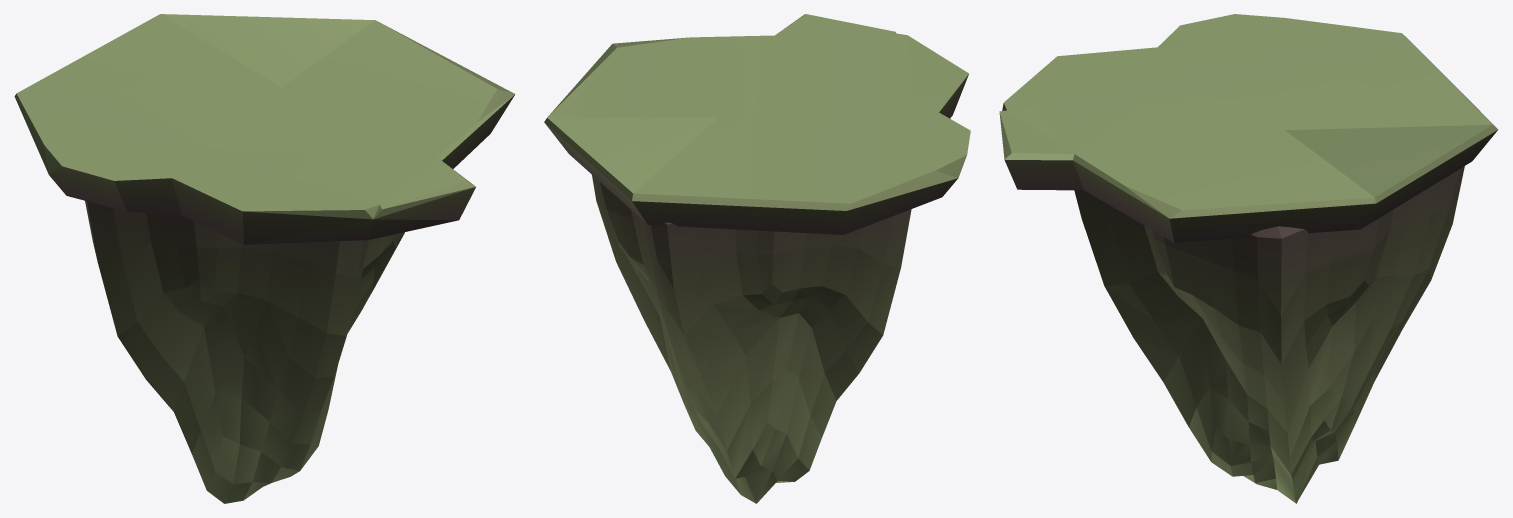
Rendered from Floating_Island_2_Bioma2.fbx.
The picture shows the model from 3 angles, left to right: view 1: azimuth 30°, elevation 25°; view 2: azimuth 150°, elevation 25°; view 3: azimuth 270°, elevation 25°; orthographic projection. The views are drawn at different scales.
Visible parts, largest first — view 1: floe.011, Hill_desert_004.001; view 2: floe.011, Hill_desert_004.001; view 3: floe.011, Hill_desert_004.001.
Boxes of the visible parts, x1=… form: floe.011: x1=14, y1=14, x2=515, y2=244; Hill_desert_004.001: x1=85, y1=201, x2=404, y2=503; floe.011: x1=544, y1=14, x2=970, y2=234; Hill_desert_004.001: x1=592, y1=175, x2=911, y2=503; floe.011: x1=999, y1=14, x2=1498, y2=242; Hill_desert_004.001: x1=1074, y1=166, x2=1464, y2=503.
Size of the model in its own units: 1312 by 1201 by 1383.
